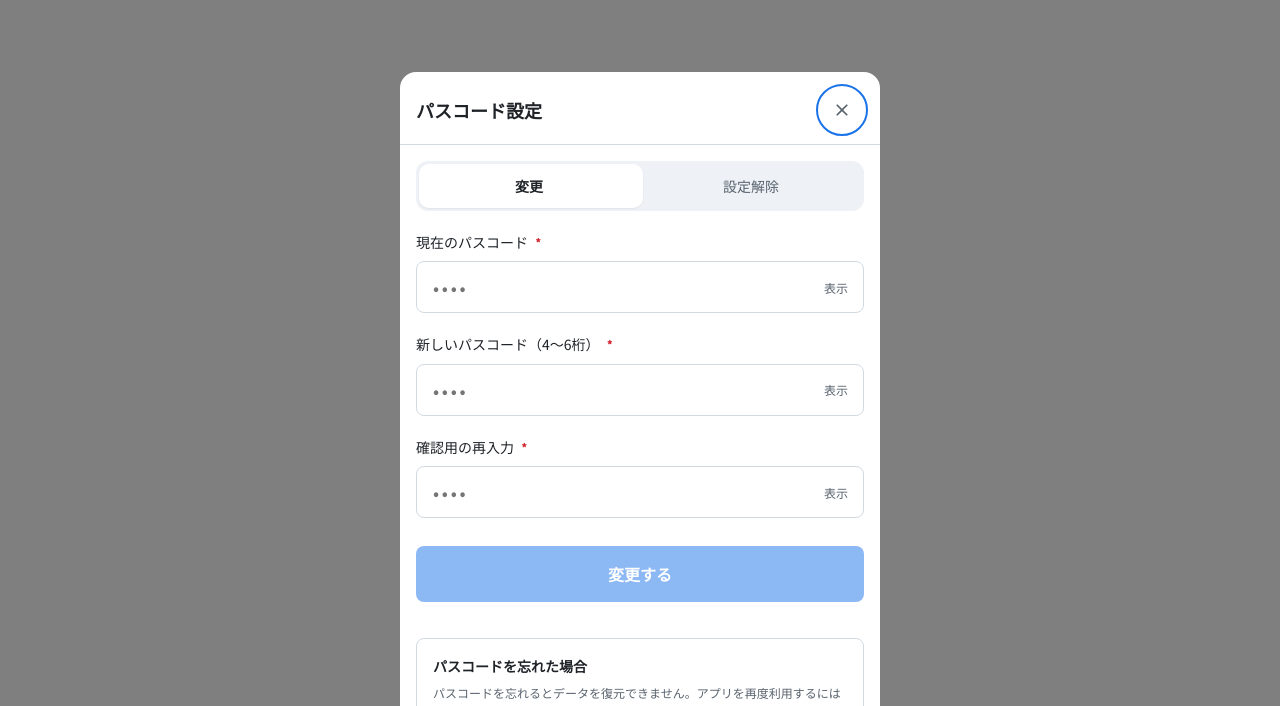
Test: PasscodeSheet Component UI and Interactions › switches to 設定解除 tab, clears inputs and displays unencrypted warning
The width and height of the screenshot is (1280, 706).
Type "1234" into the password field labelled "現在のパスコード *" at coordinates (640, 287), box [416,261,864,313]
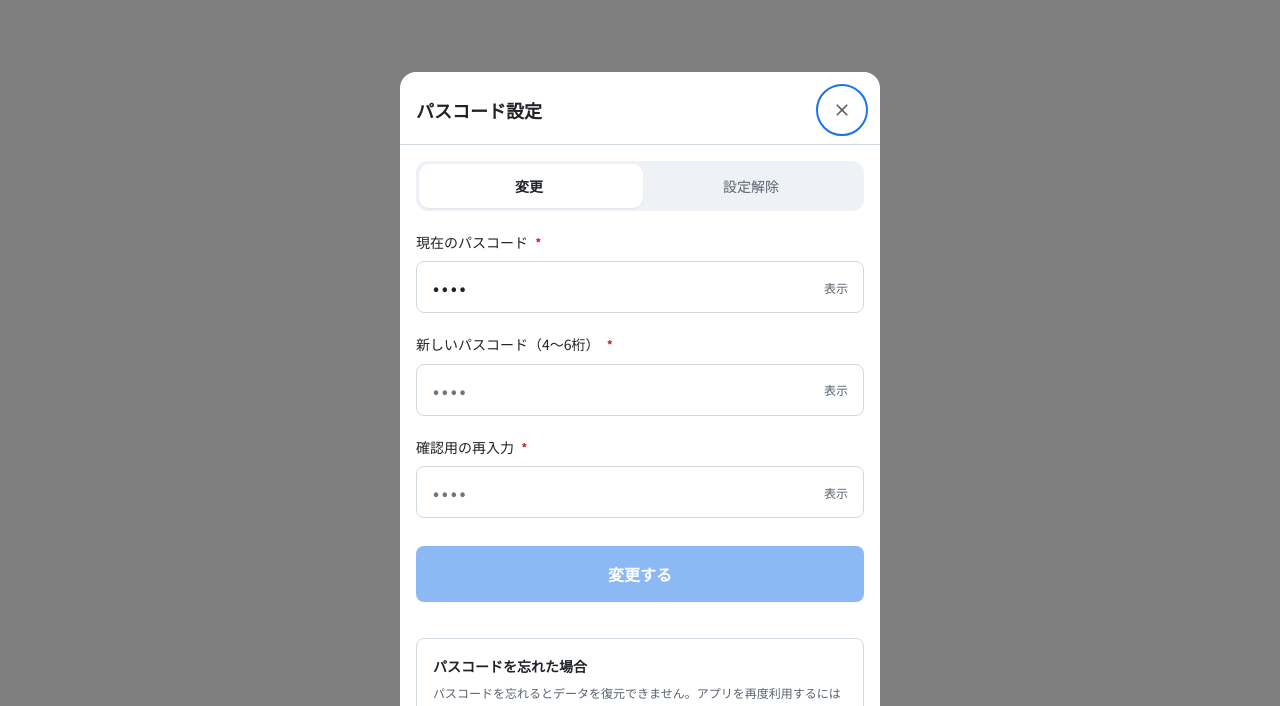
// Switch to 設定解除
Click the radio button labelled "設定解除" at coordinates (751, 186), box [641,164,861,208]
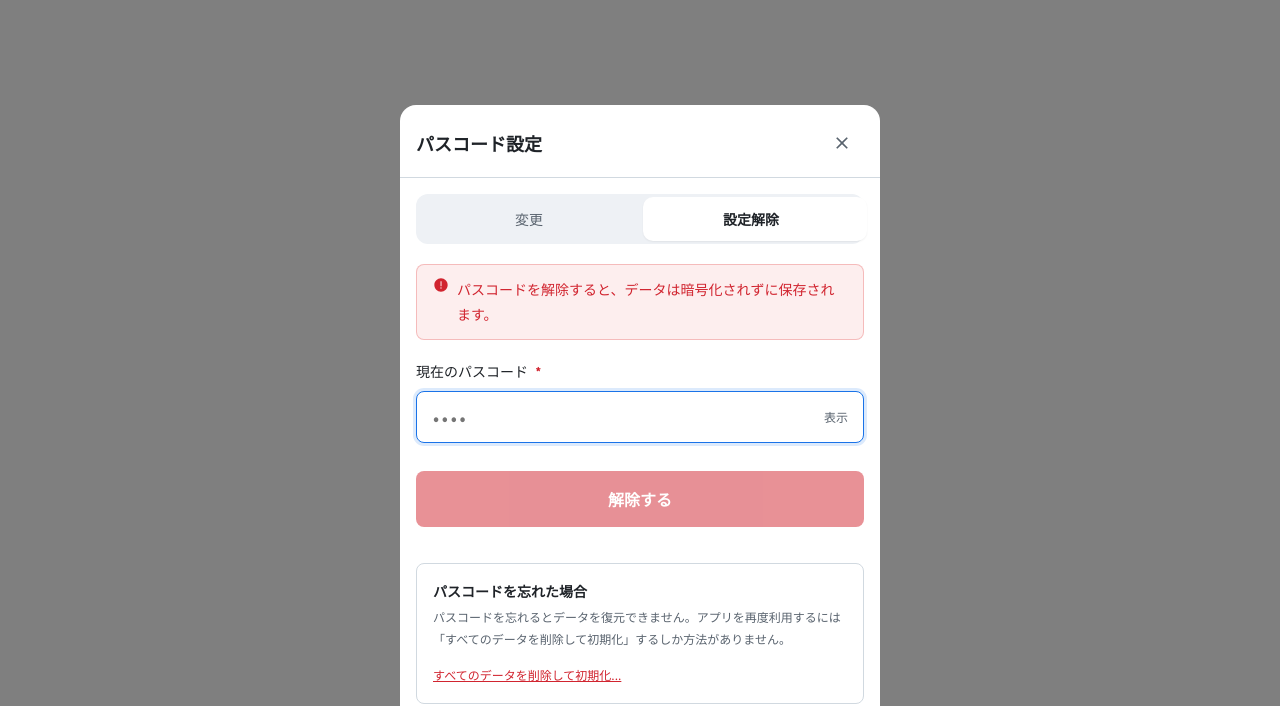
Check: the password field labelled "現在のパスコード *" is empty, box [416,391,864,443]
Check: the text "パスコードを解除すると、データは暗号化されずに保存されます。" is shown, box [457,277,847,328]
Check: the button "解除する" is shown, box [416,471,864,527]
